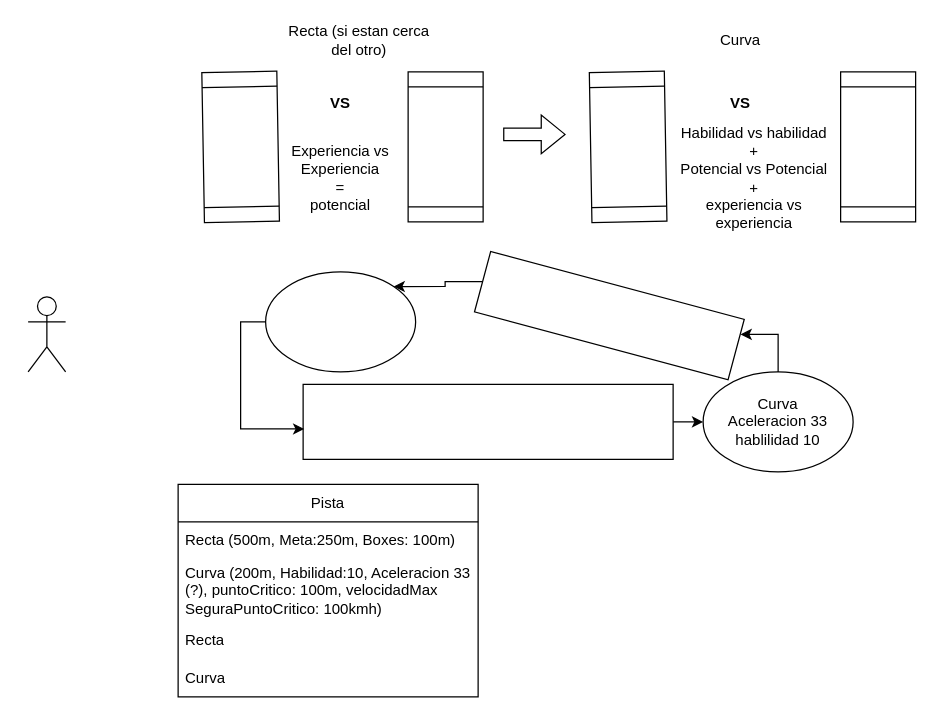
Image size: 938x719. Some labels were removed from this diagram. Each missing label, with the centre of its shape:
enrique: the point at 46,334
Recta Largo 500m: the point at 487,421
